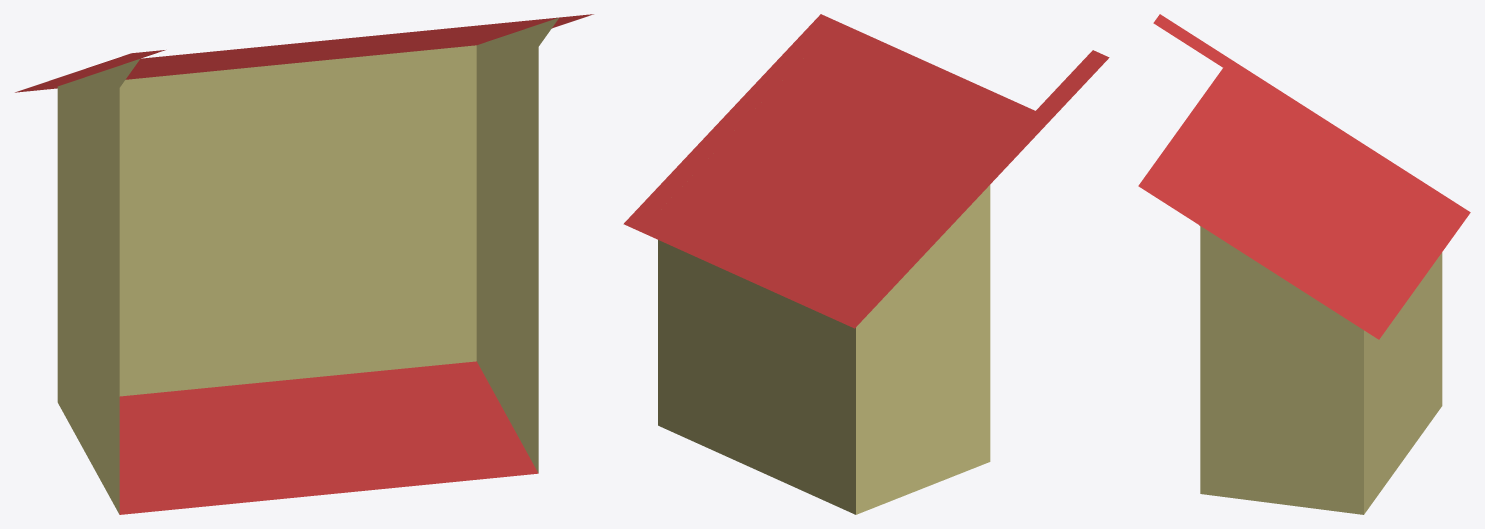
3 renders of one model, left to right at view 1: azimuth 30°, elevation 25°; view 2: azimuth 150°, elevation 25°; view 3: azimuth 270°, elevation 25°, orthographic. The views are drawn at different scales.
Size of the model in its own units: 13.04 by 10.95 by 12.55.
